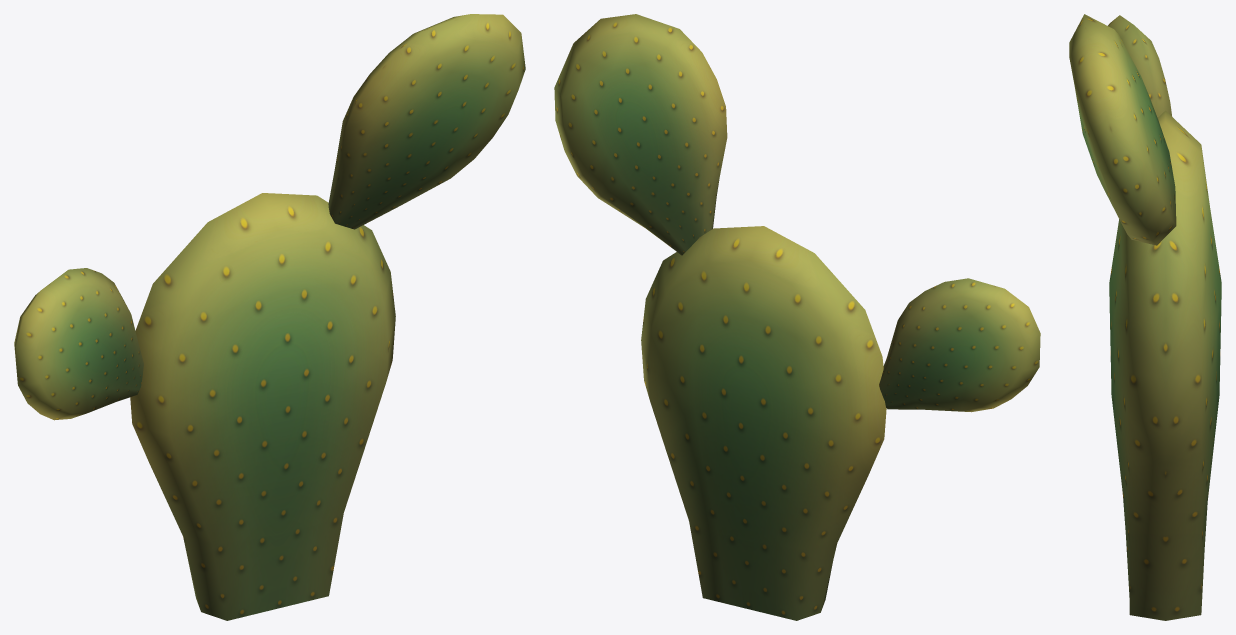
File: Ctn_flatCactus_01_v02.FBX
3 views of the same model, side by side, from view 1: azimuth 30°, elevation 25°; view 2: azimuth 150°, elevation 25°; view 3: azimuth 270°, elevation 25° (orthographic). The views are drawn at different scales.
Visible parts, largest first — view 1: Ctn_flatCactus_01_v02; view 2: Ctn_flatCactus_01_v02; view 3: Ctn_flatCactus_01_v02.
Boxes of the visible parts, x1,y1,x2,y2 form: Ctn_flatCactus_01_v02: (14, 14, 525, 620); Ctn_flatCactus_01_v02: (554, 14, 1040, 620); Ctn_flatCactus_01_v02: (1069, 14, 1221, 620).
Bounding box in the file's own units: 77.02 × 80.39 × 17.12.
